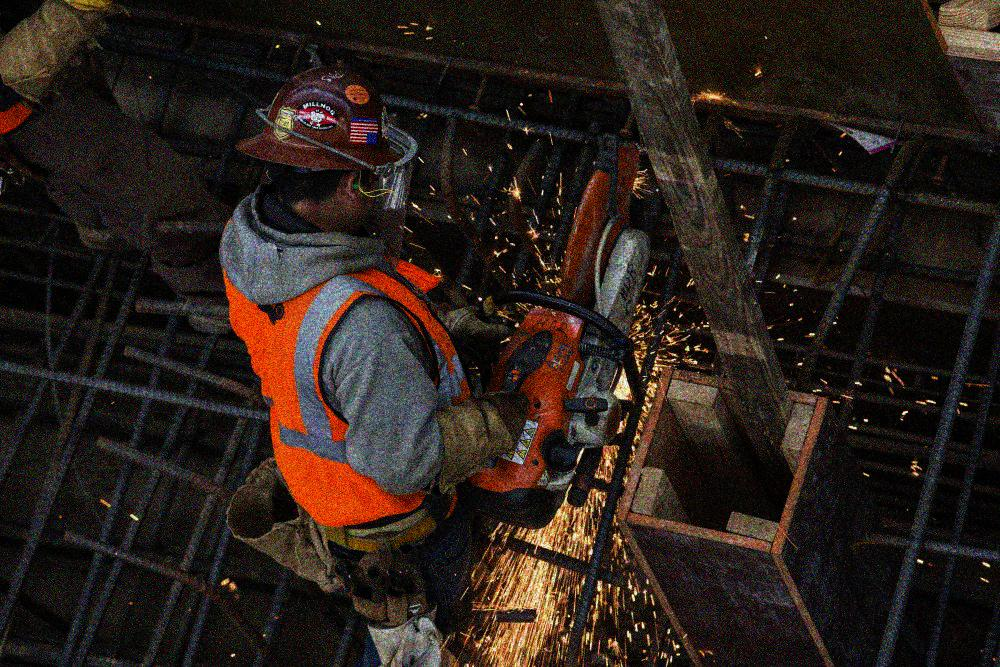helmet: (234, 63, 402, 238)
